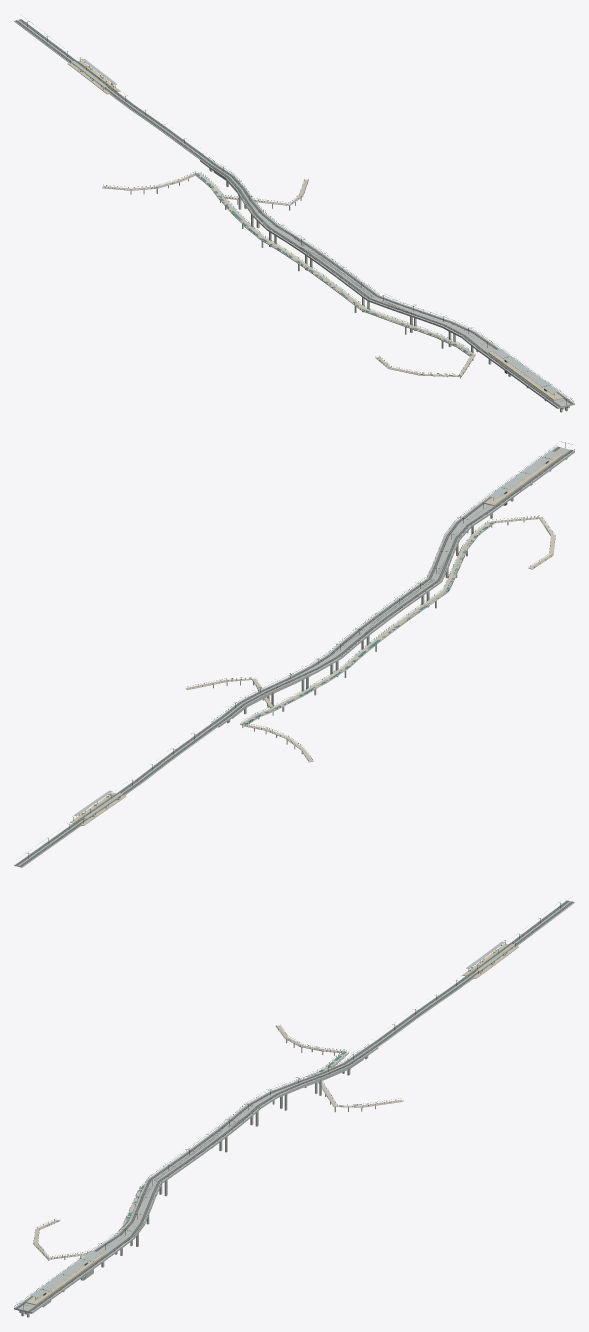
File: lady-bird-rail.glb
The picture shows the model from 3 angles, top to bottom: view 1: azimuth 30°, elevation 25°; view 2: azimuth 150°, elevation 25°; view 3: azimuth 330°, elevation 25°; orthographic projection. The views are drawn at different scales.
Parts seen in each view (by area): view 1: 10 _ Rail bridge and Trinity guideway - plan based__Charcoal; view 2: 10 _ Rail bridge and Trinity guideway - plan based__Charcoal; view 3: 10 _ Rail bridge and Trinity guideway - plan based__Charcoal.
Part boxes in pixels (bbox=[...]): 10 _ Rail bridge and Trinity guideway - plan based__Charcoal: bbox=[14, 19, 574, 412]; 10 _ Rail bridge and Trinity guideway - plan based__Charcoal: bbox=[14, 441, 574, 867]; 10 _ Rail bridge and Trinity guideway - plan based__Charcoal: bbox=[14, 900, 574, 1317].
Bounding box in the file's own units: 178 × 27.43 × 1005.
Materials: 1 (1 with a texture image).
